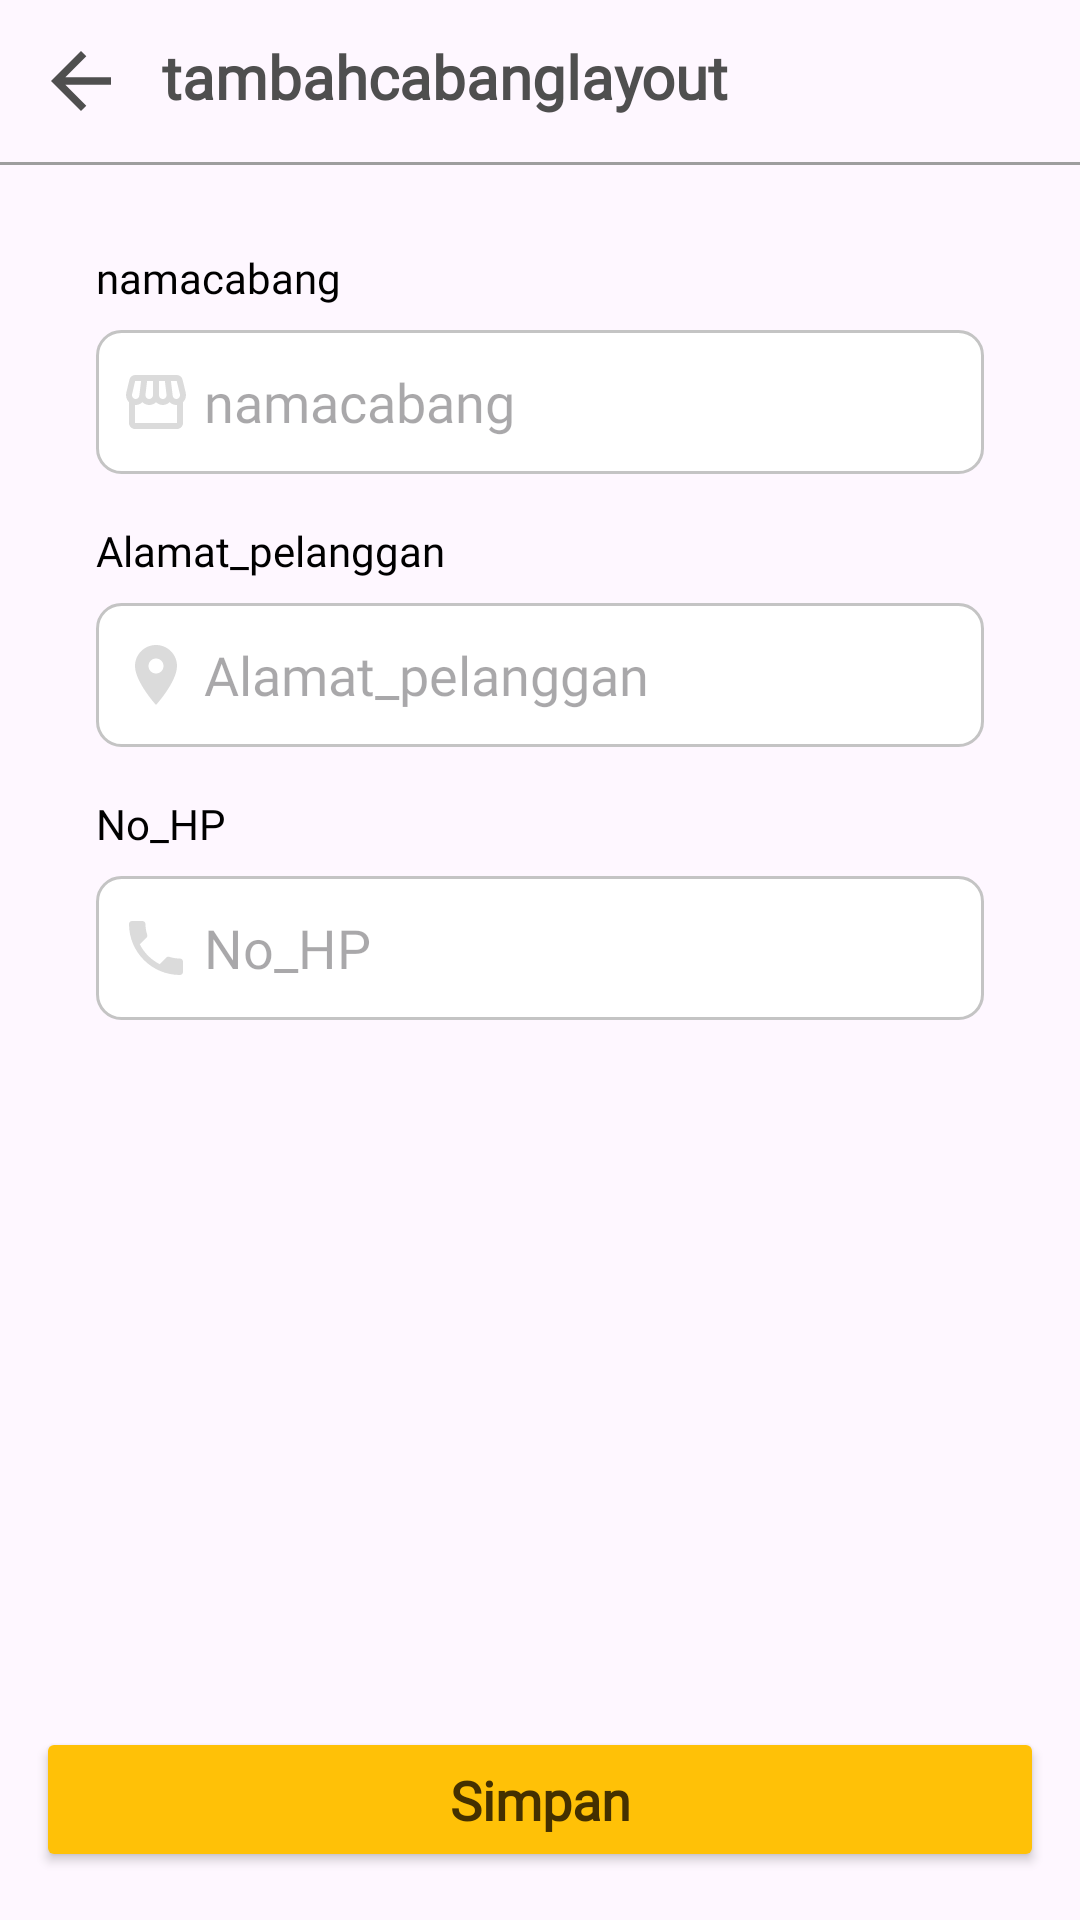

Named icons in this screenshot (1080px x 1920px) and their bounding boxes, (x1, y1, x2, y2):
arrow back: (51, 51, 111, 111)
